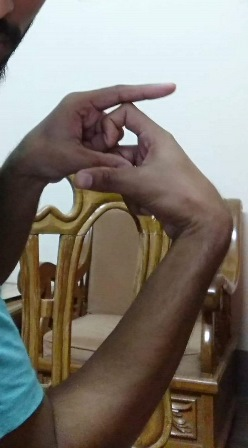kh: (59, 84, 176, 182)
